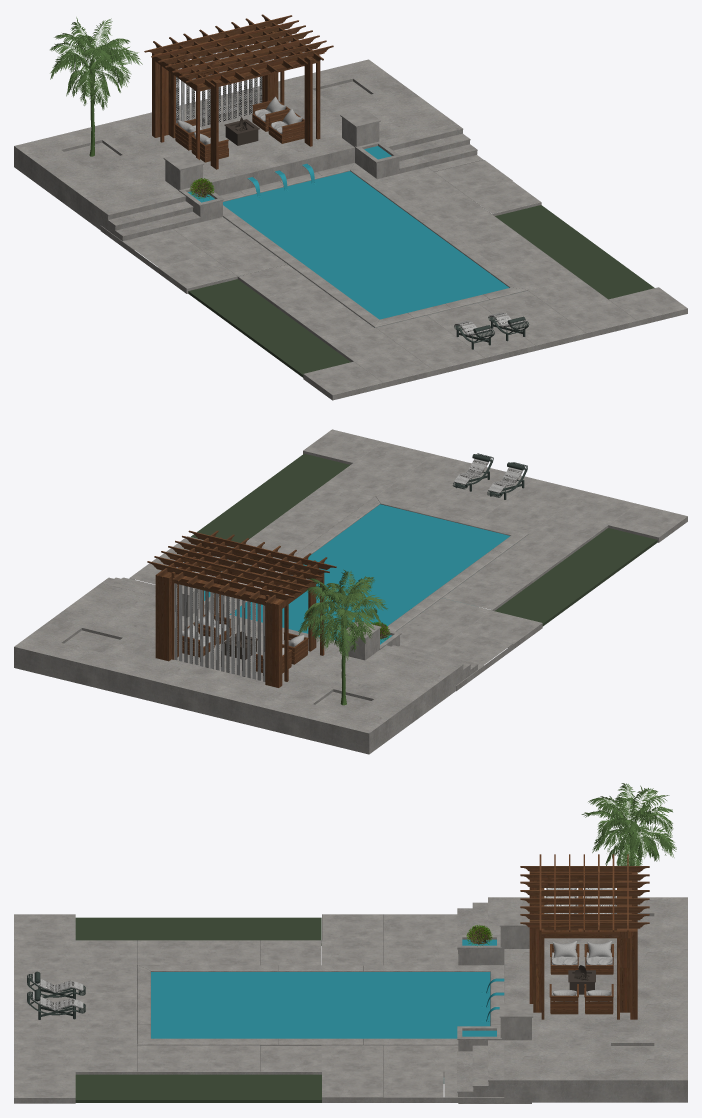
Rendered from pool-18.glb.
3 views of the same model, one above another, from view 1: azimuth 30°, elevation 25°; view 2: azimuth 150°, elevation 25°; view 3: azimuth 270°, elevation 25° (orthographic). The views are drawn at different scales.
Parts seen in each view (by area): view 1: Pool | Limestone terrace, Pool | Pool water, Pool | Warm timber pergola, Pool | Planting beds, Pool | Palm canopy, Pool | Ivory outdoor upholstery, Pool | Graphite furniture frames, Pool | Fire bowl; view 2: Pool | Limestone terrace, Pool | Pool water, Pool | Warm timber pergola, Pool | Planting beds, Pool | Ivory outdoor upholstery, Pool | Palm canopy, Pool | Graphite furniture frames; view 3: Pool | Limestone terrace, Pool | Pool water, Pool | Warm timber pergola, Pool | Planting beds, Pool | Palm canopy, Pool | Ivory outdoor upholstery, Pool | Graphite furniture frames, Pool | Fire bowl.
Boxes of the visible parts, x1,y1,x2,y2 form: Pool | Limestone terrace: [14, 59, 687, 400]; Pool | Pool water: [188, 146, 509, 319]; Pool | Warm timber pergola: [144, 14, 333, 169]; Pool | Planting beds: [188, 205, 654, 377]; Pool | Palm canopy: [50, 17, 142, 156]; Pool | Ivory outdoor upholstery: [176, 36, 525, 335]; Pool | Graphite furniture frames: [454, 316, 529, 349]; Pool | Fire bowl: [224, 117, 259, 145]; Pool | Limestone terrace: [14, 429, 687, 754]; Pool | Pool water: [204, 504, 509, 644]; Pool | Warm timber pergola: [147, 530, 336, 687]; Pool | Planting beds: [191, 453, 657, 626]; Pool | Ivory outdoor upholstery: [174, 457, 525, 681]; Pool | Palm canopy: [298, 569, 387, 705]; Pool | Graphite furniture frames: [452, 453, 527, 499]; Pool | Limestone terrace: [14, 897, 687, 1103]; Pool | Pool water: [151, 939, 504, 1038]; Pool | Warm timber pergola: [520, 854, 649, 1019]; Pool | Planting beds: [75, 917, 321, 1102]; Pool | Palm canopy: [581, 783, 676, 872]; Pool | Ivory outdoor upholstery: [32, 888, 615, 1010]; Pool | Graphite furniture frames: [27, 971, 85, 1019]; Pool | Fire bowl: [568, 965, 595, 994].
Size of the model in its own units: 2.32 by 1.14 by 3.6.
Materials: 12 (4 with a texture image).
